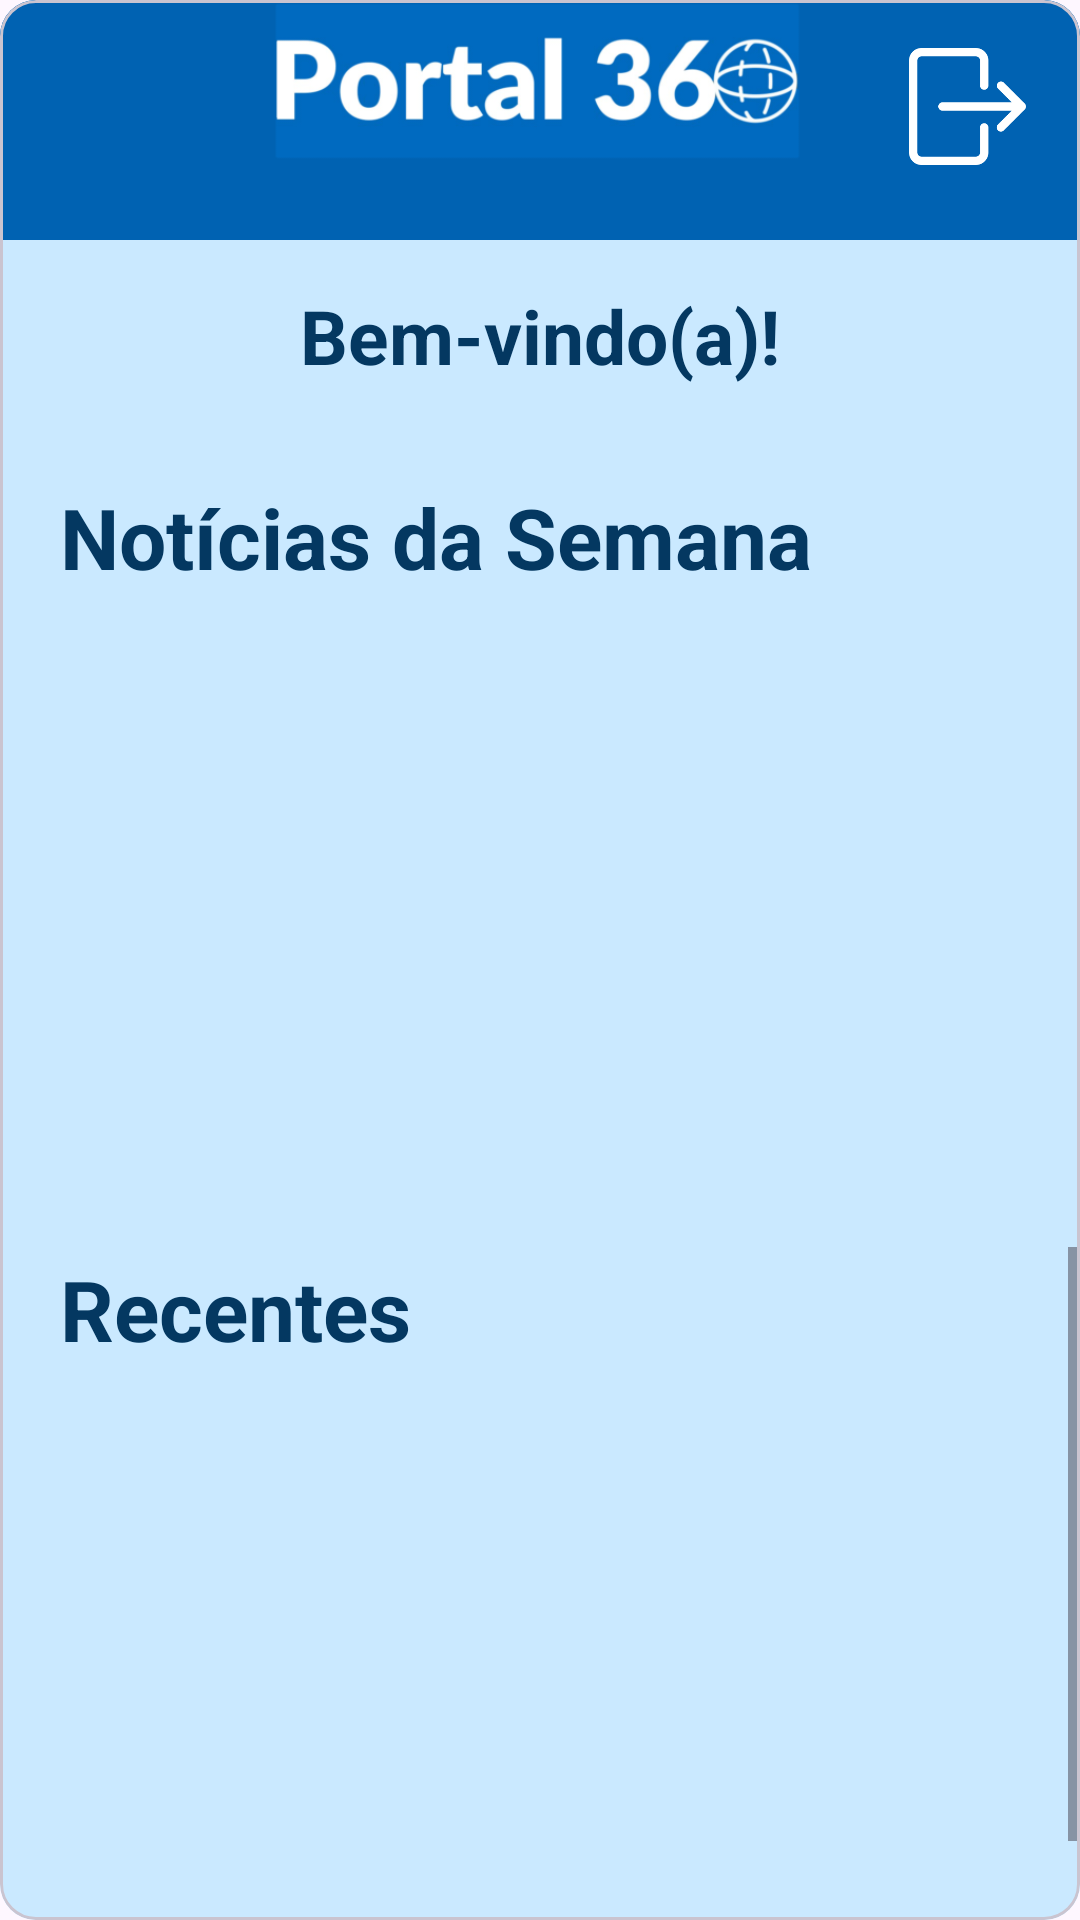

Named icons in this screenshot (1080px×1920px) and their bounding boxes, detection(x1, y1, x2, y2):
sair: detection(909, 48, 1026, 165)
